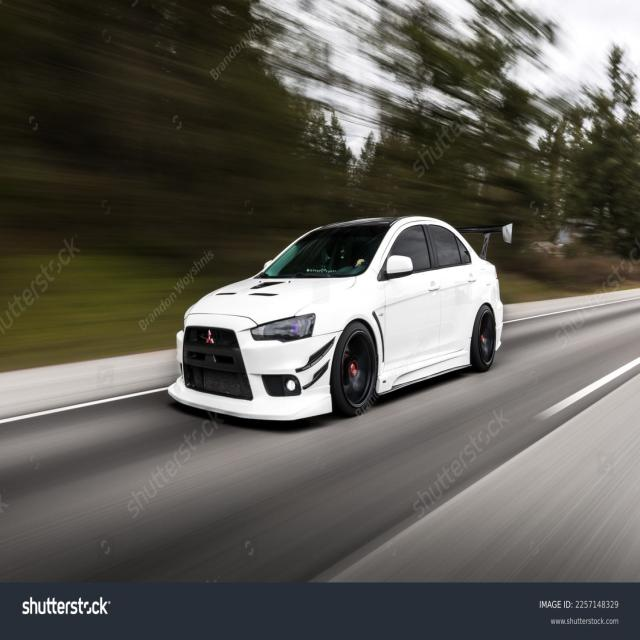mitsubishi: (204, 326, 216, 346)
